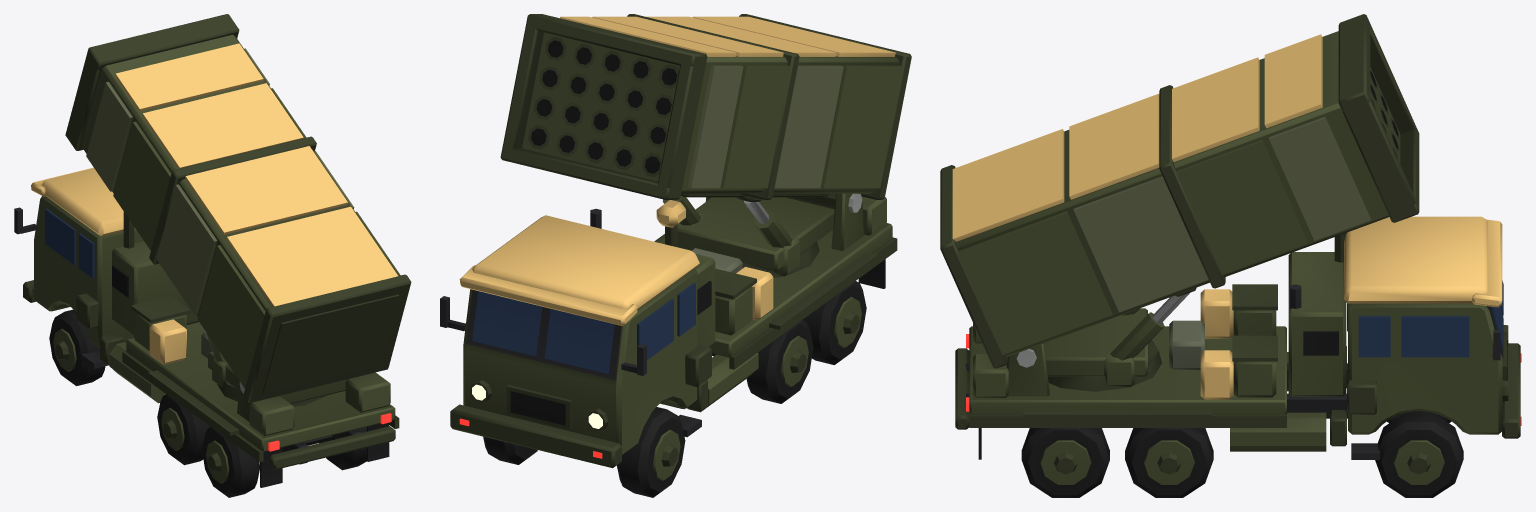
File: artillery.glb
The picture shows the model from 3 angles, left to right: view 1: azimuth 30°, elevation 25°; view 2: azimuth 150°, elevation 25°; view 3: azimuth 270°, elevation 25°; orthographic projection. The views are drawn at different scales.
Parts seen in each view (by area): view 1: Launcher, Body, Wheel_RL, Wheel_FL, Wheel_ML, Wheel_RR; view 2: Body, Launcher, Wheel_FL, Wheel_ML, Wheel_RL, Ram_L, Wheel_FR; view 3: Launcher, Body, Wheel_FR, Wheel_RR, Wheel_MR, Ram_R.
Boxes of the visible parts, bbox=[...] form: Launcher: bbox=[65, 14, 411, 402]; Body: bbox=[14, 167, 399, 487]; Wheel_RL: bbox=[202, 427, 259, 497]; Wheel_FL: bbox=[49, 309, 105, 385]; Wheel_ML: bbox=[157, 394, 210, 465]; Wheel_RR: bbox=[319, 427, 366, 470]; Body: bbox=[440, 193, 897, 468]; Launcher: bbox=[500, 14, 911, 209]; Wheel_FL: bbox=[617, 407, 685, 497]; Wheel_ML: bbox=[746, 320, 813, 403]; Wheel_RL: bbox=[803, 281, 866, 364]; Ram_L: bbox=[744, 200, 792, 247]; Wheel_FR: bbox=[483, 436, 537, 464]; Launcher: bbox=[940, 14, 1419, 368]; Body: bbox=[955, 216, 1521, 459]; Wheel_FR: bbox=[1375, 412, 1463, 497]; Wheel_RR: bbox=[1021, 428, 1109, 497]; Wheel_MR: bbox=[1125, 428, 1213, 497]; Ram_R: bbox=[1110, 293, 1189, 360].
Bounding box in the file's own units: 0.784 × 1.55 × 2.
